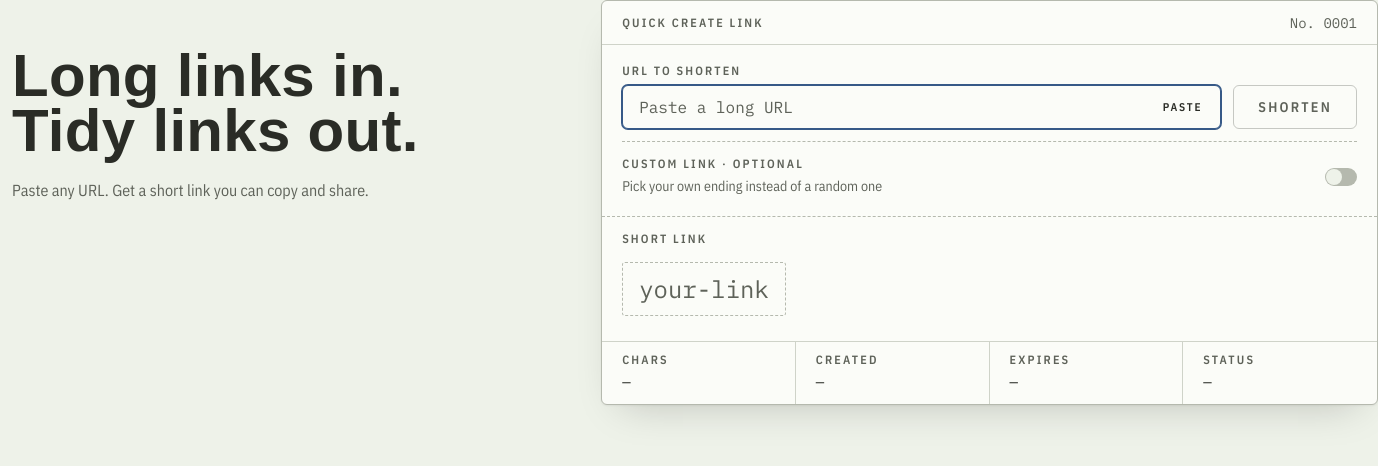
Scenario: ShortenForm › shows an error on 400
Type "https://nope.example" into the field labelled "URL to shorten" at [922, 107], box left=622, top=85, right=1221, bottom=129
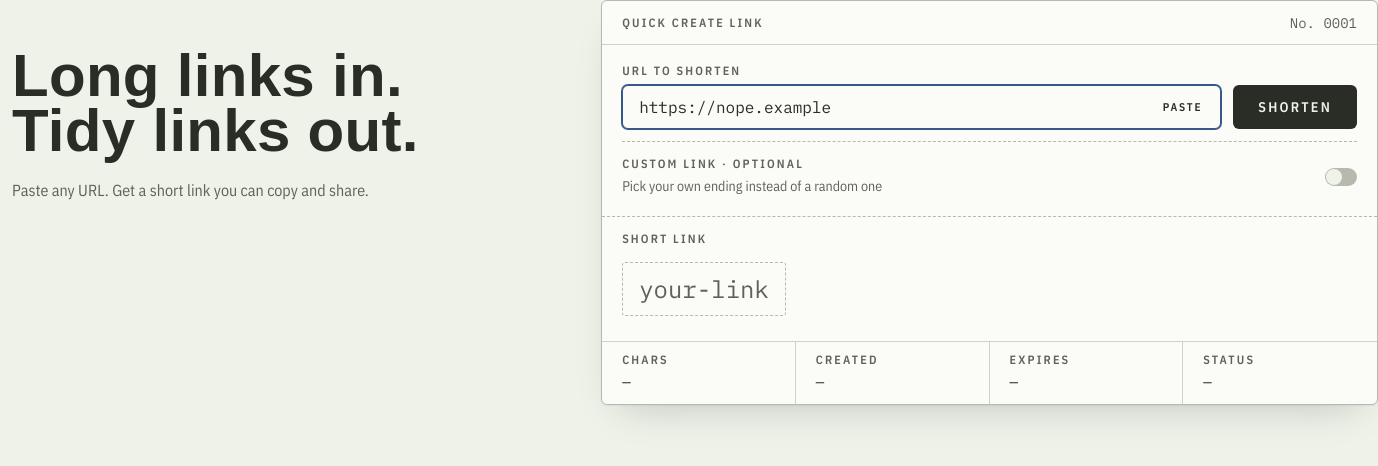
Click the button "Shorten" at [1295, 107], box left=1233, top=85, right=1357, bottom=129
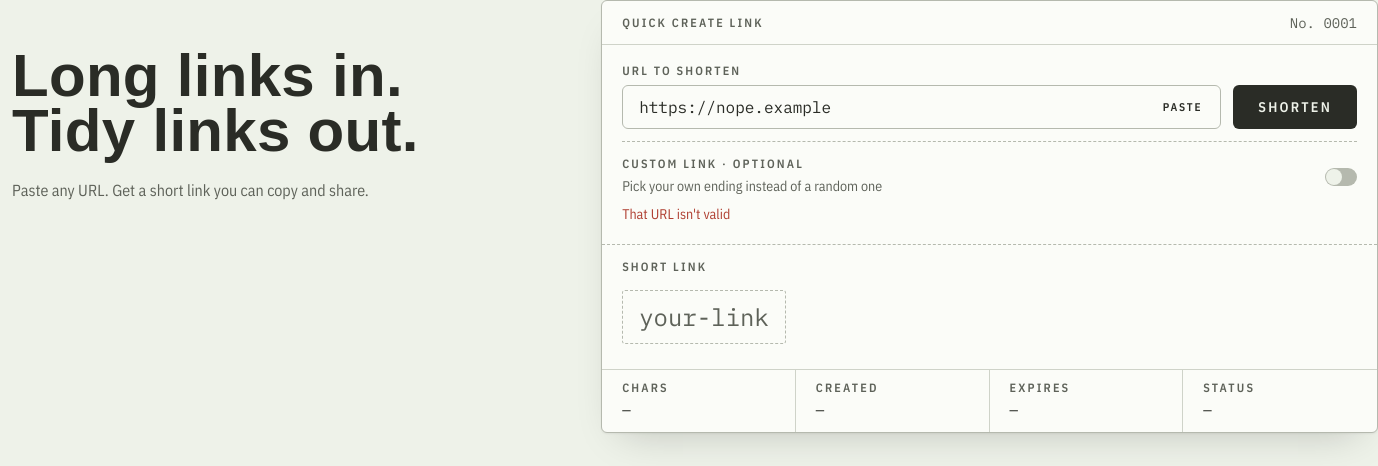
Now the message reads "That URL isn't valid", box left=622, top=205, right=730, bottom=223
